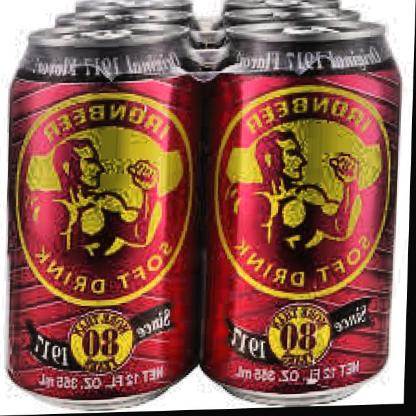Can: (3, 19, 209, 415), (200, 17, 406, 410), (207, 8, 370, 40), (49, 11, 206, 44), (70, 0, 198, 20), (220, 1, 346, 16)
